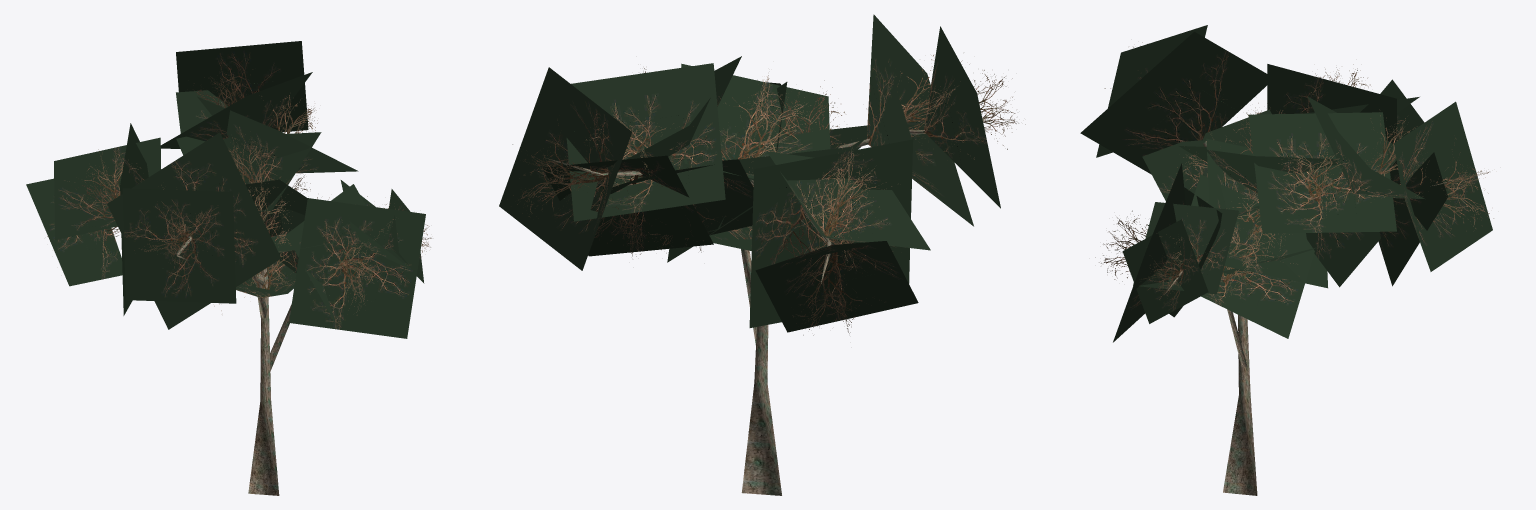
Rendered from decd_dogwoodtreebranches_a2_l1.fbx.
3 views of the same model, side by side, from view 1: azimuth 30°, elevation 25°; view 2: azimuth 150°, elevation 25°; view 3: azimuth 270°, elevation 25° (orthographic). The views are drawn at different scales.
Parts seen in each view (by area): view 1: mesh_node; view 2: mesh_node; view 3: mesh_node.
Part boxes in pixels (box(x1,y1,x2,y2)): mesh_node: box(26, 41, 431, 495); mesh_node: box(499, 14, 1025, 495); mesh_node: box(1080, 25, 1493, 495).
Size of the model in its own units: 16.48 by 18.6 by 17.75.
